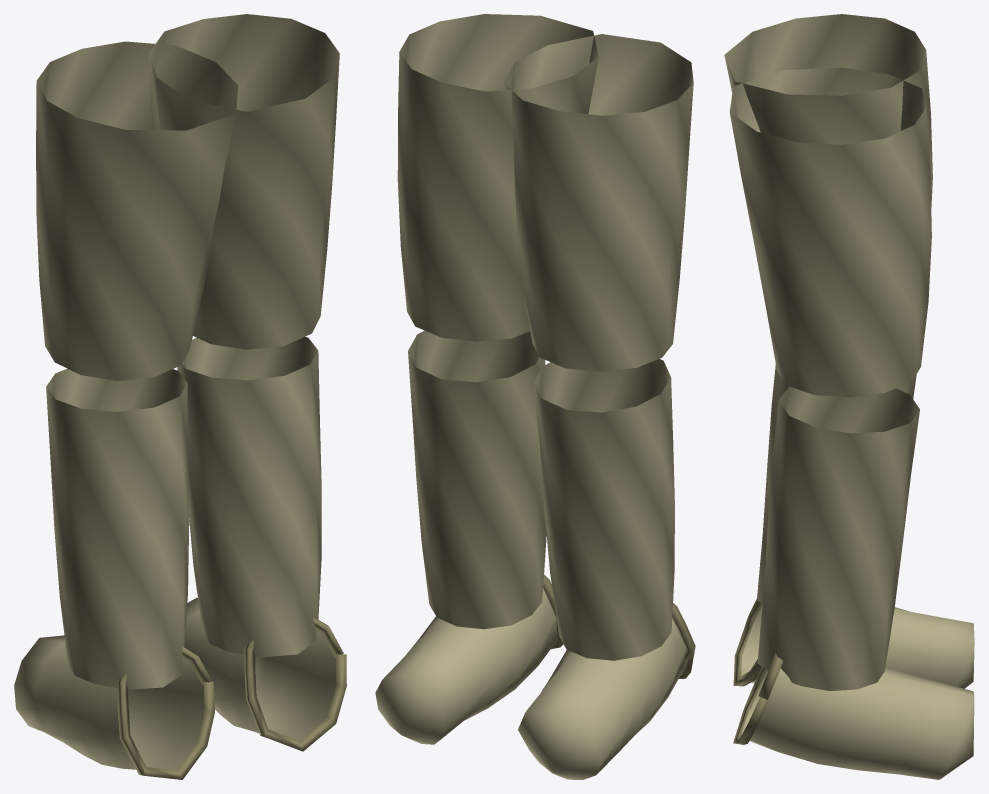
Rendered from tin_greaves.glb.
The picture shows the model from 3 angles, left to right: view 1: azimuth 30°, elevation 25°; view 2: azimuth 150°, elevation 25°; view 3: azimuth 270°, elevation 25°; orthographic projection. The views are drawn at different scales.
Parts seen in each view (by area): view 1: tin_greaves_cuisse.L; view 2: tin_greaves_cuisse.L; view 3: tin_greaves_cuisse.L.
Part boxes in pixels (x1,y1,x2,y2): tin_greaves_cuisse.L: (14, 14, 346, 779); tin_greaves_cuisse.L: (375, 14, 695, 779); tin_greaves_cuisse.L: (724, 14, 974, 779).
Bounding box in the file's own units: 0.403 × 0.9485 × 0.3253.
